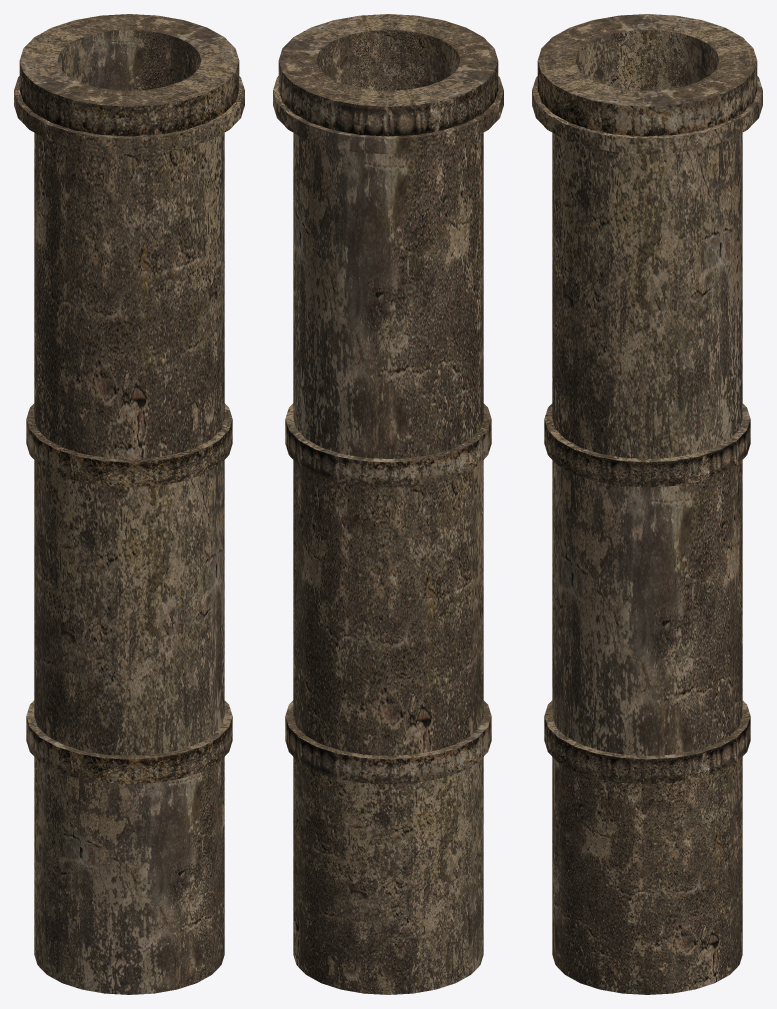
Rendered from materials_5_decoration_19.fbx.
The picture shows the model from 3 angles, left to right: view 1: azimuth 30°, elevation 25°; view 2: azimuth 150°, elevation 25°; view 3: azimuth 270°, elevation 25°; orthographic projection.
Parts seen in each view (by area): view 1: materials_5_decoration_19; view 2: materials_5_decoration_19; view 3: materials_5_decoration_19.
Boxes of the visible parts, x1,y1,x2,y2 form: materials_5_decoration_19: (14, 14, 244, 994); materials_5_decoration_19: (273, 14, 503, 994); materials_5_decoration_19: (532, 14, 762, 994).
Size of the model in its own units: 23.86 by 102 by 23.86.
